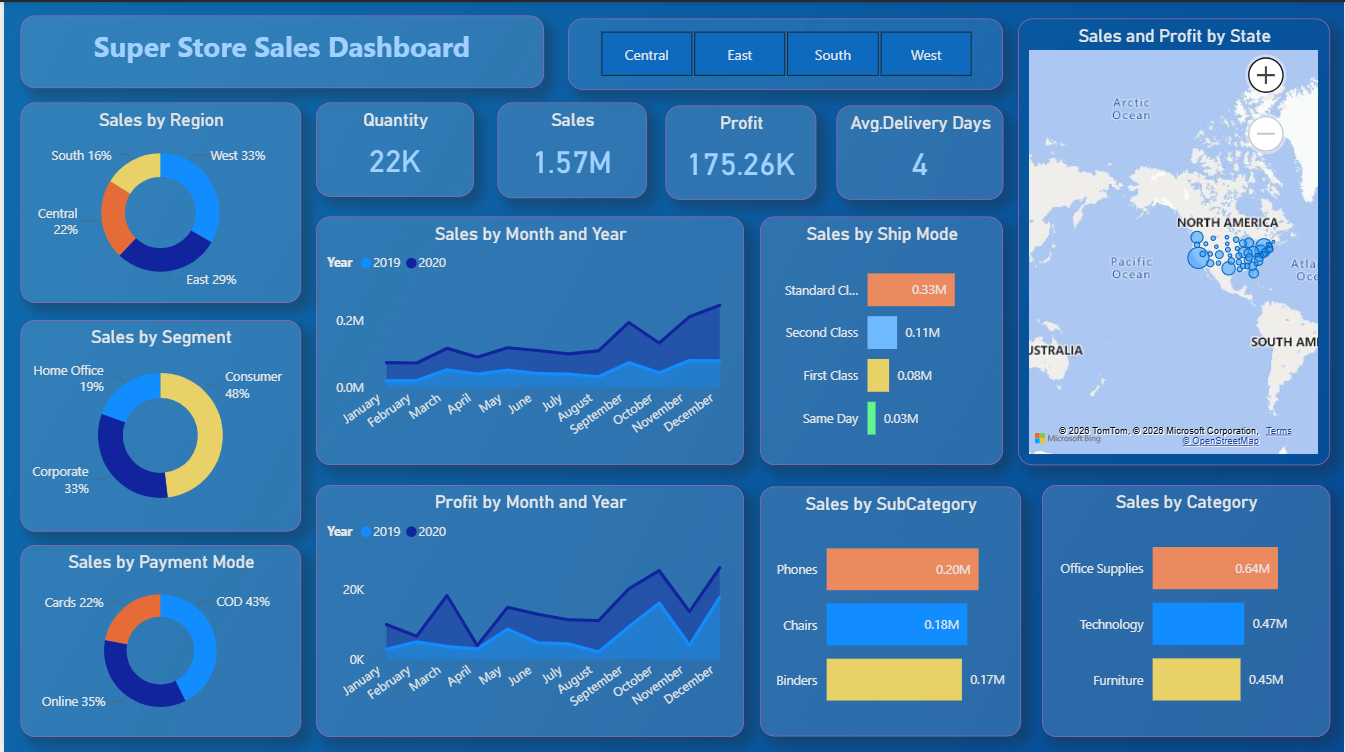

The dashboard page shown, as its layout file describes it:
{"tool":"powerbi","page":{"name":"Page 1","canvas":[1280,720],"ordinal":0},"visuals":[{"type":"clusteredBarChart","title":" Sales by Category","fields":{"Category":["SuperStore_Sales_Dataset.Category"],"Y":["Sum(SuperStore_Sales_Dataset.Sales)"]},"box":[991.2,461.2,275,240.6],"z":0},{"type":"clusteredBarChart","title":" Sales by  SubCategory","fields":{"Category":["SuperStore_Sales_Dataset.Sub-Category"],"Y":["Sum(SuperStore_Sales_Dataset.Sales)"]},"box":[722,462.7,249.2,239],"z":1000},{"type":"clusteredBarChart","title":" Sales by  Ship Mode","fields":{"Category":["SuperStore_Sales_Dataset.Ship Mode"],"Y":["Sum(SuperStore_Sales_Dataset.Sales)"]},"box":[722,205.1,232.2,237.3],"z":2000},{"type":"donutChart","title":" Sales by Segment","fields":{"Category":["SuperStore_Sales_Dataset.Segment"],"Y":["Sum(SuperStore_Sales_Dataset.Sales)"]},"box":[15.3,303.4,267.8,201.7],"z":3000},{"type":"donutChart","title":" Sales by Payment Mode","fields":{"Category":["SuperStore_Sales_Dataset.Payment Mode"],"Y":["Sum(SuperStore_Sales_Dataset.Sales)"]},"box":[15.3,518.6,267.8,183.1],"z":4000},{"type":"slicer","fields":{"Values":["SuperStore_Sales_Dataset.Region"]},"box":[539,15.3,415.3,67.8],"z":5000},{"type":"textbox","box":[15.3,13.6,500,69.5],"z":6000},{"type":"card","title":"Sales","fields":{"Values":["Sum(SuperStore_Sales_Dataset.Sales)"]},"box":[471.2,96.6,142.4,91.5],"z":7000},{"type":"card","title":"Quantity","fields":{"Values":["Sum(SuperStore_Sales_Dataset.Quantity)"]},"box":[298.3,96.6,150.8,89.8],"z":8000},{"type":"card","title":"Profit","fields":{"Values":["Sum(SuperStore_Sales_Dataset.Profit)"]},"box":[632.2,98.3,144.1,89.8],"z":9000},{"type":"card","title":"Avg.Delivery Days","fields":{"Values":["Avg(SuperStore_Sales_Dataset.AvgDelivery)"]},"box":[794.9,98.3,159.3,89.8],"z":10000},{"type":"stackedAreaChart","title":" Sales by Month and Year","fields":{"Y":["Sum(SuperStore_Sales_Dataset.Sales)"],"Category":["SuperStore_Sales_Dataset.Order Date.Variation.Date Hierarchy.Month","SuperStore_Sales_Dataset.Order Date.Variation.Date Hierarchy.Day"],"Series":["SuperStore_Sales_Dataset.Order Date.Variation.Date Hierarchy.Year"]},"box":[298.3,205.1,408.5,237.3],"z":11000},{"type":"stackedAreaChart","title":"Profit by Month and Year","fields":{"Category":["SuperStore_Sales_Dataset.Order Date.Variation.Date Hierarchy.Month","SuperStore_Sales_Dataset.Order Date.Variation.Date Hierarchy.Day"],"Series":["SuperStore_Sales_Dataset.Order Date.Variation.Date Hierarchy.Year"],"Y":["Sum(SuperStore_Sales_Dataset.Profit)"]},"box":[298.3,461,408.5,240.7],"z":12000},{"type":"donutChart","title":" Sales by Region","fields":{"Category":["SuperStore_Sales_Dataset.Region"],"Y":["Sum(SuperStore_Sales_Dataset.Sales)"]},"box":[15.3,96.6,267.8,191.5],"z":13000},{"type":"map","title":" Sales and Profit by State","fields":{"Category":["SuperStore_Sales_Dataset.State"],"Size":["Sum(SuperStore_Sales_Dataset.Sales)"]},"box":[968.3,15.8,297.9,426.9],"z":14000}]}

Visuals, with their boxes in screenshot pixels (x1, y1, x2, y2), scaled from the page's 1280x720 canvas onto the 1345x752 screenshot:
" Sales by Category" clusteredBarChart: {"left": 1042, "top": 482, "right": 1330, "bottom": 733}
" Sales by  SubCategory" clusteredBarChart: {"left": 759, "top": 483, "right": 1021, "bottom": 733}
" Sales by  Ship Mode" clusteredBarChart: {"left": 759, "top": 214, "right": 1003, "bottom": 462}
" Sales by Segment" donutChart: {"left": 16, "top": 317, "right": 297, "bottom": 528}
" Sales by Payment Mode" donutChart: {"left": 16, "top": 542, "right": 297, "bottom": 733}
slicer - SuperStore_Sales_Dataset.Region: {"left": 566, "top": 16, "right": 1003, "bottom": 87}
textbox: {"left": 16, "top": 14, "right": 541, "bottom": 87}
"Sales" card: {"left": 495, "top": 101, "right": 645, "bottom": 196}
"Quantity" card: {"left": 313, "top": 101, "right": 472, "bottom": 195}
"Profit" card: {"left": 664, "top": 103, "right": 816, "bottom": 196}
"Avg.Delivery Days" card: {"left": 835, "top": 103, "right": 1003, "bottom": 196}
" Sales by Month and Year" stackedAreaChart: {"left": 313, "top": 214, "right": 743, "bottom": 462}
"Profit by Month and Year" stackedAreaChart: {"left": 313, "top": 481, "right": 743, "bottom": 733}
" Sales by Region" donutChart: {"left": 16, "top": 101, "right": 297, "bottom": 301}
" Sales and Profit by State" map: {"left": 1017, "top": 17, "right": 1330, "bottom": 462}
